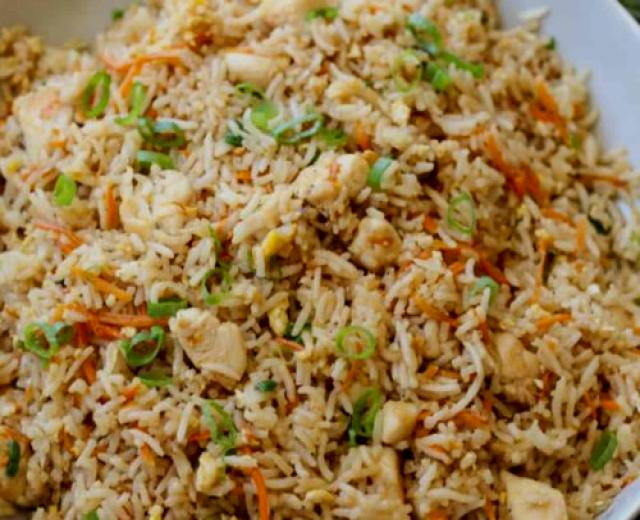fried rice: (0, 1, 634, 512)
